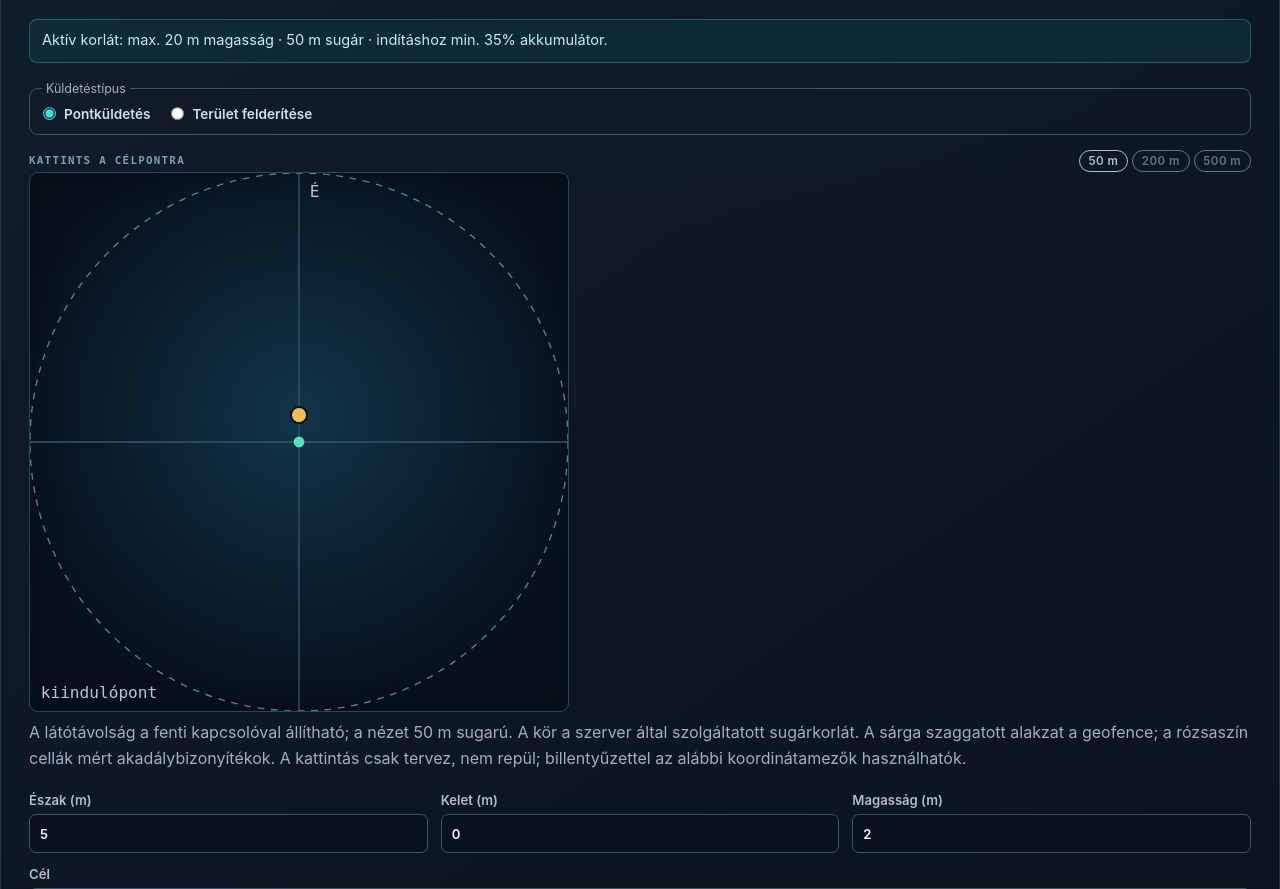
Test case: MissionPage › turns a map click into local north/east mission coordinates
(page scrolled)
Expected: the text "Aktív korlát" is shown, [42,31,164,49]
Click the picture named "Küldetési térkép".
click(51, 194)  # box [29,172,569,712]
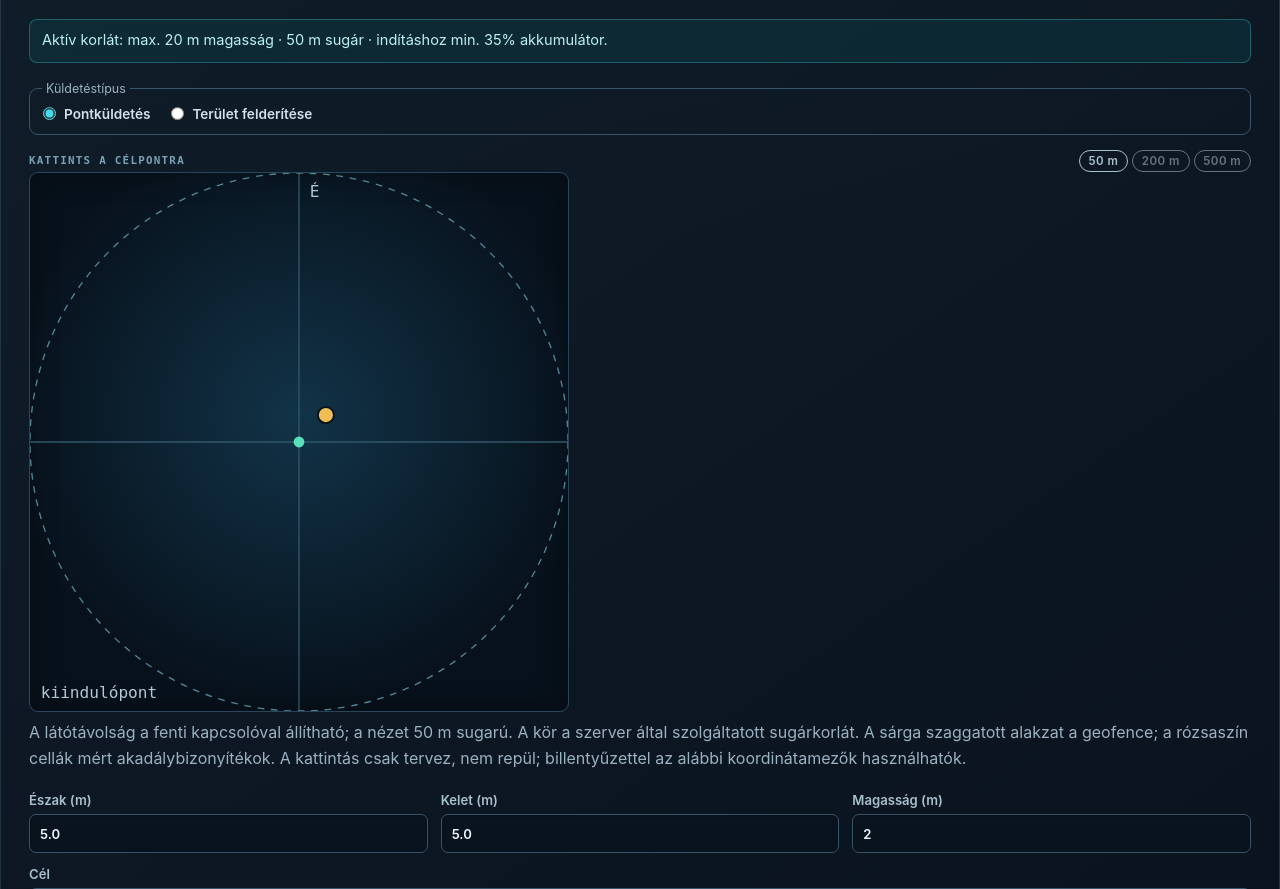
Result: the number field labelled "Észak (m)" holds "5" at [29,814,428,853]
Result: the number field labelled "Kelet (m)" holds "5" at [441,814,839,853]
